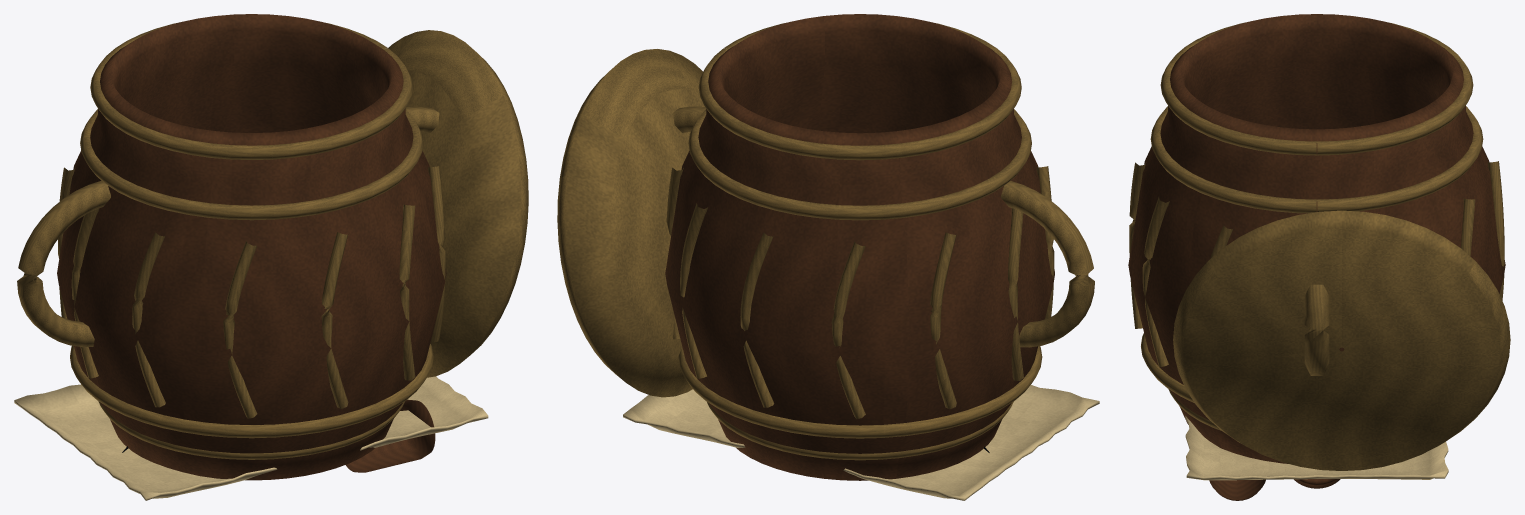
File: voting-props.glb
3 renders of one model, left to right at view 1: azimuth 30°, elevation 25°; view 2: azimuth 150°, elevation 25°; view 3: azimuth 270°, elevation 25°, orthographic. The views are drawn at different scales.
Visible parts, largest first — view 1: voting_urn, parchment, voting_pen; view 2: voting_urn, parchment; view 3: voting_urn, parchment, voting_pen.
Part boxes in pixels (<box>): voting_urn: <box>17,14,528,480</box>; parchment: <box>14,376,488,500</box>; voting_pen: <box>122,399,435,472</box>; voting_urn: <box>557,14,1094,480</box>; parchment: <box>623,385,1099,500</box>; voting_urn: <box>1128,14,1510,470</box>; parchment: <box>1185,416,1448,480</box>; voting_pen: <box>1209,479,1340,500</box>.
Size of the model in its own units: 1.05 by 0.83 by 0.77.
1 material, 1 textured.
